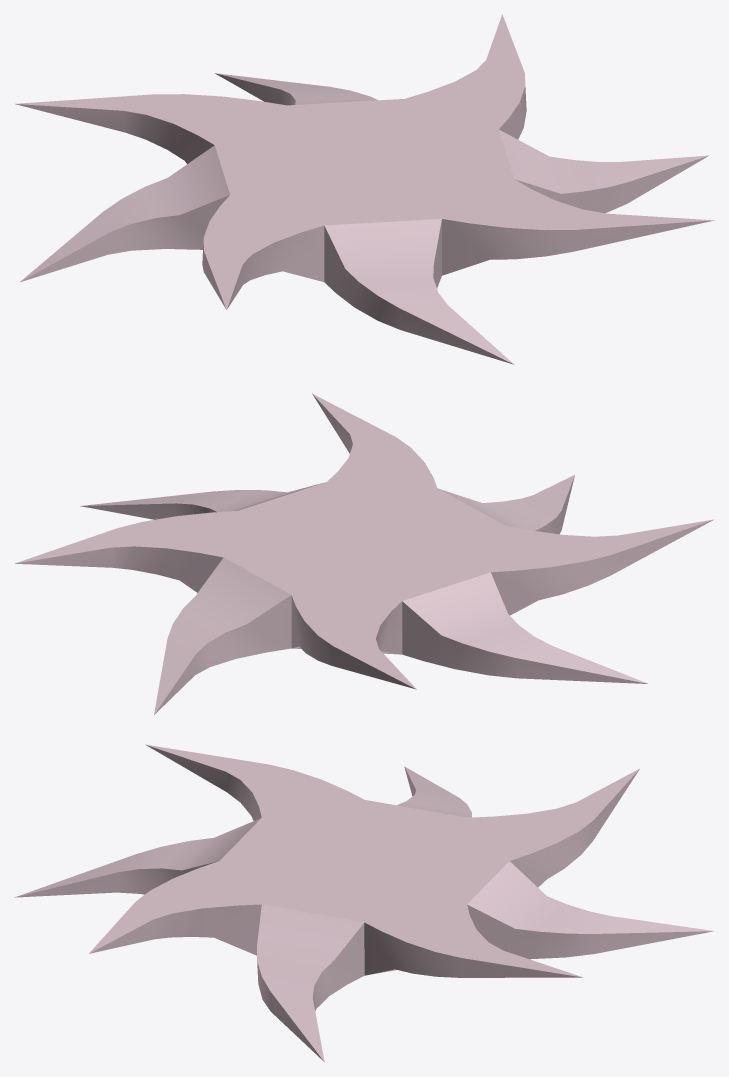
Rendered from blender-blade.fbx.
The picture shows the model from 3 angles, top to bottom: view 1: azimuth 30°, elevation 25°; view 2: azimuth 150°, elevation 25°; view 3: azimuth 270°, elevation 25°; orthographic projection. The views are drawn at different scales.
Parts seen in each view (by area): view 1: Cylinder.005; view 2: Cylinder.005; view 3: Cylinder.005.
Part boxes in pixels (<box>): Cylinder.005: <box>15,14,714,364</box>; Cylinder.005: <box>15,393,714,714</box>; Cylinder.005: <box>14,744,714,1061</box>.
Size of the model in its own units: 109 by 9.17 by 109.
